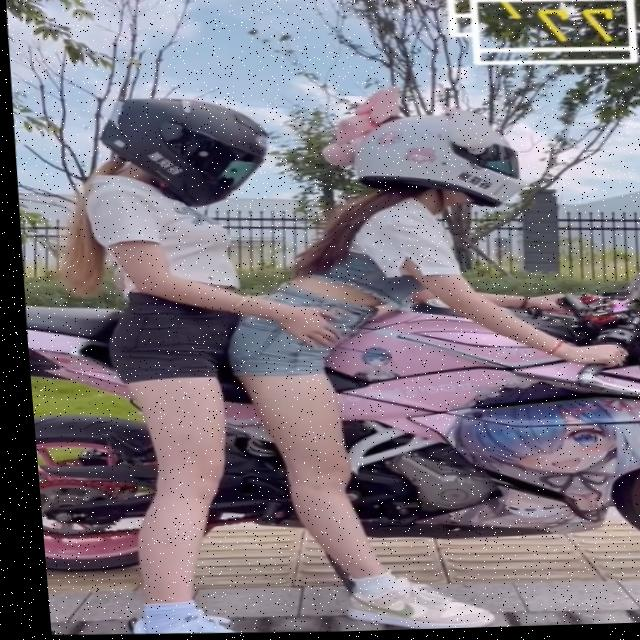helmet: (88, 90, 283, 216), (340, 109, 535, 219)
